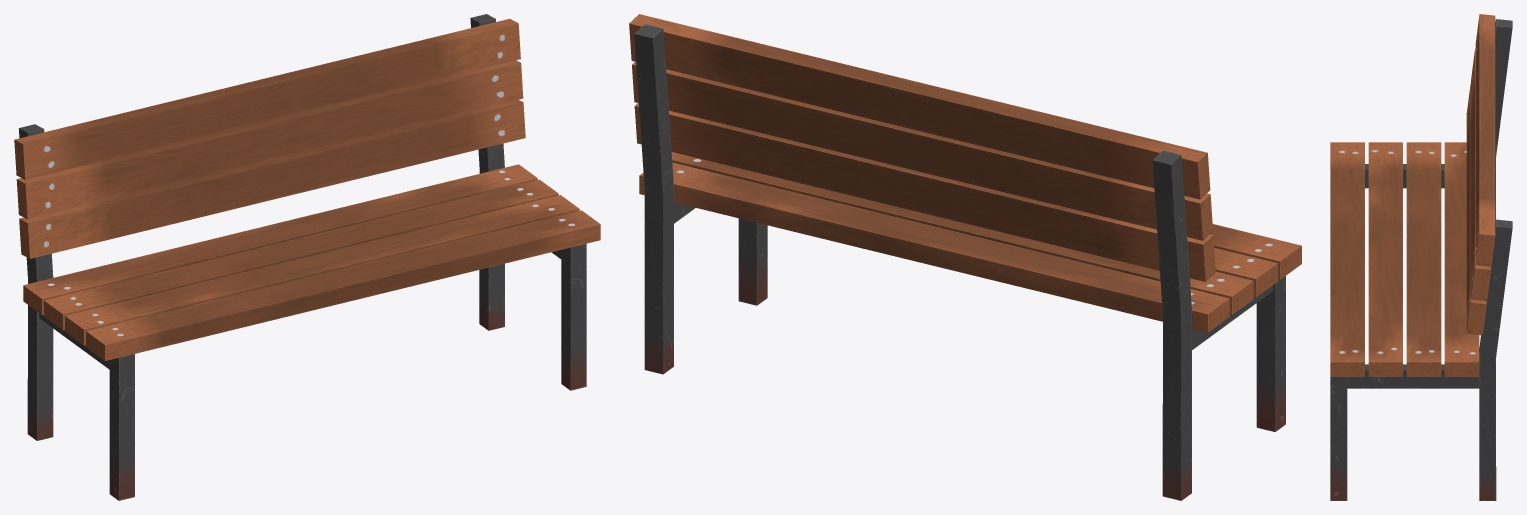
The model's file is Bench.fbx.
3 views of the same model, side by side, from view 1: azimuth 30°, elevation 25°; view 2: azimuth 150°, elevation 25°; view 3: azimuth 270°, elevation 25° (orthographic). The views are drawn at different scales.
Parts seen in each view (by area): view 1: Bench; view 2: Bench; view 3: Bench.
Boxes of the visible parts, box(x1,y1,x2,y2) form: Bench: box(14, 14, 600, 500); Bench: box(629, 14, 1301, 500); Bench: box(1330, 14, 1512, 500).
Size of the model in its own units: 1.75 by 1.02 by 0.6124.
